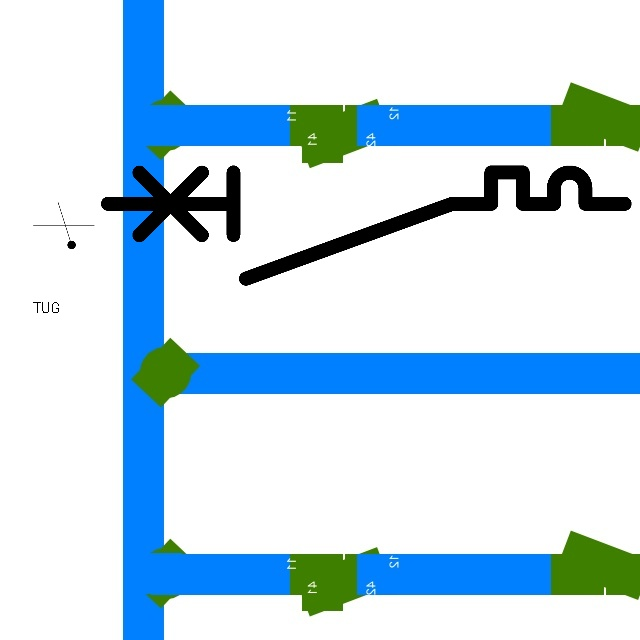interruptor_termomagnetico: (94, 159, 638, 292)
